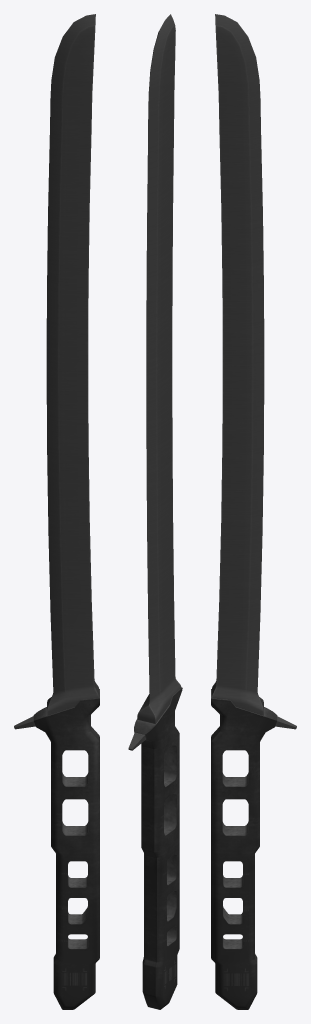
Rendered from katana.fbx.
3 renders of one model, left to right at view 1: azimuth 90°, elevation 25°; view 2: azimuth 150°, elevation 25°; view 3: azimuth 270°, elevation 25°, orthographic.
Parts seen in each view (by area): view 1: Katana; view 2: Katana; view 3: Katana.
Boxes of the visible parts, x1,y1,x2,y2 form: Katana: (14, 14, 99, 1009); Katana: (128, 14, 182, 1009); Katana: (211, 14, 296, 1009).
Size of what is drawn, in the model's own units: 2.02 by 95.34 by 7.46.
